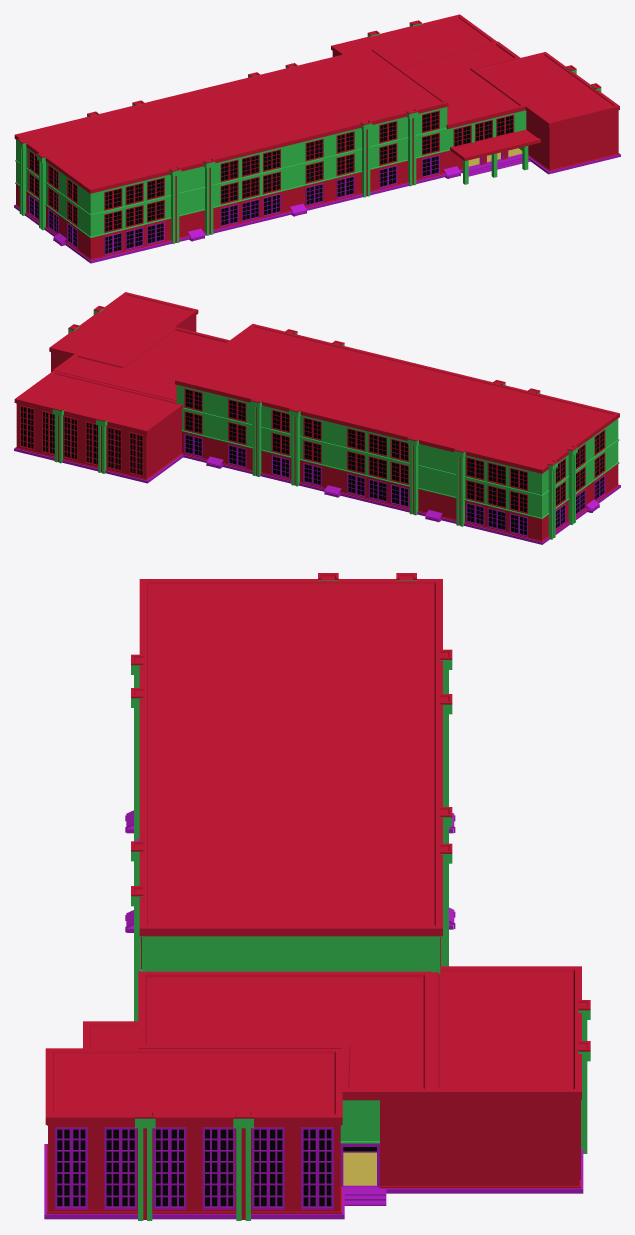
The model's file is SM_school.fbx.
The picture shows the model from 3 angles, top to bottom: view 1: azimuth 30°, elevation 25°; view 2: azimuth 150°, elevation 25°; view 3: azimuth 270°, elevation 25°; orthographic projection. The views are drawn at different scales.
Parts seen in each view (by area): view 1: lvl4, lvl3, lvl1, lvl2, Cube_79, Cube_65; view 2: lvl4, lvl3, lvl1, lvl2, Cube_79; view 3: lvl4, lvl3, lvl1, Cube_79, lvl2, Cube_65.
Boxes of the visible parts, x1,y1,x2,y2 form: lvl4: (14,47,448,193); lvl3: (15,14,619,215); lvl1: (14,51,620,263); lvl2: (15,110,526,237); Cube_79: (17,20,601,243); Cube_65: (450,129,540,184); lvl4: (175,324,619,473); lvl3: (14,292,619,496); lvl1: (14,315,620,544); lvl2: (182,409,619,518); Cube_79: (52,305,577,539); lvl4: (139,579,442,936); lvl3: (45,936,581,1124); lvl1: (44,810,583,1219); Cube_79: (131,573,590,1220); lvl2: (340,1100,379,1143); Cube_65: (83,1021,138,1048).
Size of the model in its own units: 7250 by 995 by 3329.
